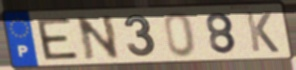0: (161, 10, 198, 59)
3: (123, 13, 157, 60)
8: (205, 11, 239, 56)
E: (34, 16, 81, 62)
K: (243, 10, 281, 54)
N: (74, 14, 123, 62)
